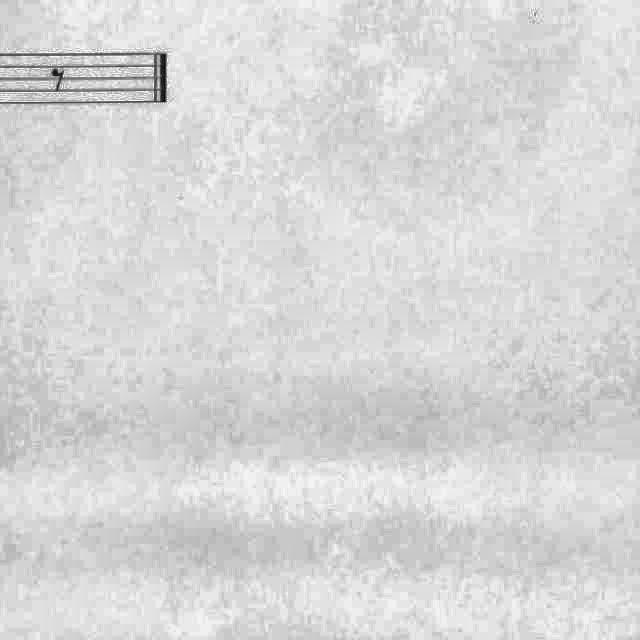Eighth-rest: (46, 62, 74, 98)
